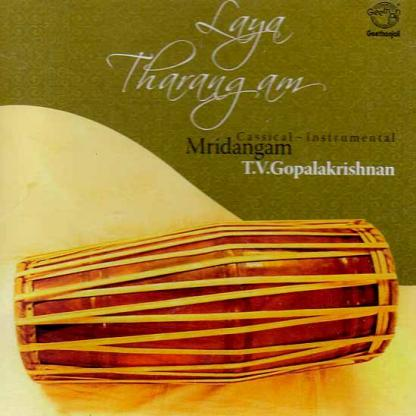Mridangam: (11, 213, 406, 394)
